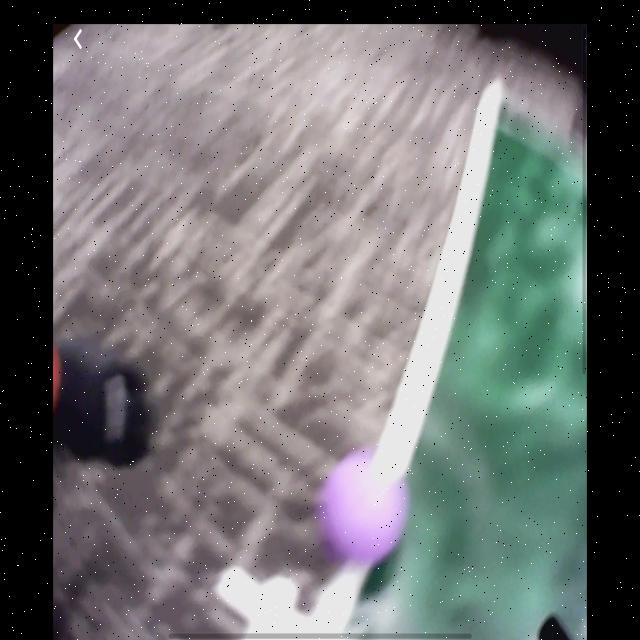ball: (326, 453, 409, 561)
